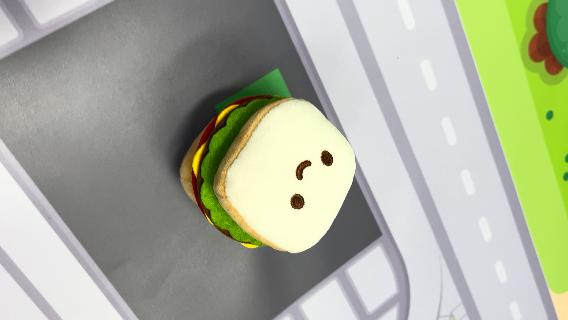sandwich: (178, 92, 358, 255)
